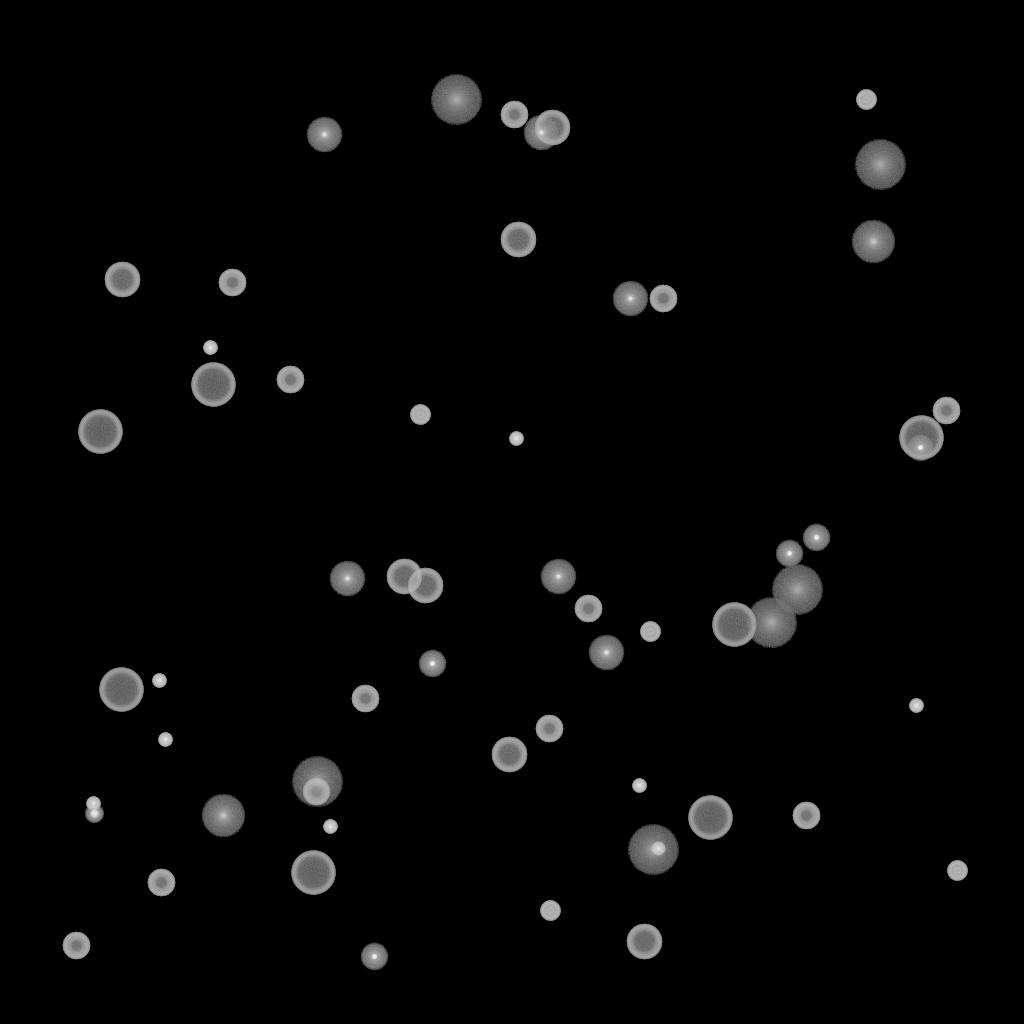depth:-10: (418, 650, 446, 678), (906, 434, 934, 462), (360, 943, 388, 971), (802, 524, 830, 552), (775, 540, 803, 568)
depth:-20: (85, 805, 103, 823)
depth:-30: (158, 733, 172, 747), (909, 699, 923, 713), (509, 432, 523, 446), (203, 341, 217, 355), (323, 820, 337, 834), (651, 842, 665, 856), (152, 674, 166, 688), (632, 779, 646, 793), (86, 797, 100, 811)
depth:-40: (640, 622, 660, 642), (540, 901, 560, 921), (856, 90, 876, 110), (410, 405, 430, 425), (947, 861, 967, 881)
depth:-50: (147, 869, 175, 897), (535, 715, 563, 743), (792, 802, 820, 830), (351, 685, 379, 713), (302, 778, 330, 806), (218, 269, 246, 297), (574, 595, 602, 623), (649, 285, 677, 313), (276, 366, 304, 394), (62, 932, 90, 960), (500, 101, 528, 129), (932, 397, 960, 425)
depth:-60: (626, 924, 662, 960), (534, 110, 570, 146), (500, 222, 536, 258), (407, 568, 443, 604), (104, 262, 140, 298), (491, 737, 527, 773), (386, 559, 422, 595)
depth:-70: (899, 416, 943, 460), (99, 668, 143, 712), (688, 796, 732, 840), (291, 851, 335, 895), (78, 410, 122, 454), (712, 603, 756, 647), (191, 363, 235, 407)
depth:0: (523, 115, 559, 151), (329, 561, 365, 597), (588, 635, 624, 671), (612, 281, 648, 317), (306, 117, 342, 153), (540, 559, 576, 595)
depth:10: (851, 220, 895, 264), (201, 794, 245, 838)
depth:20: (291, 757, 343, 807), (854, 140, 906, 190), (771, 565, 823, 615), (627, 825, 679, 875), (430, 75, 482, 125), (745, 598, 797, 648)
